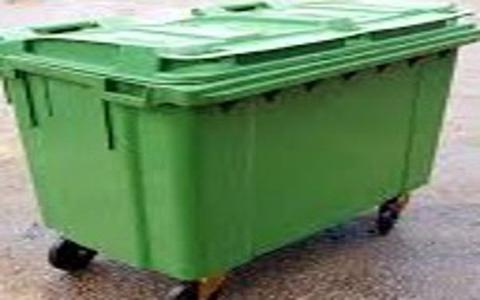Proper garbage: (3, 1, 476, 299)
